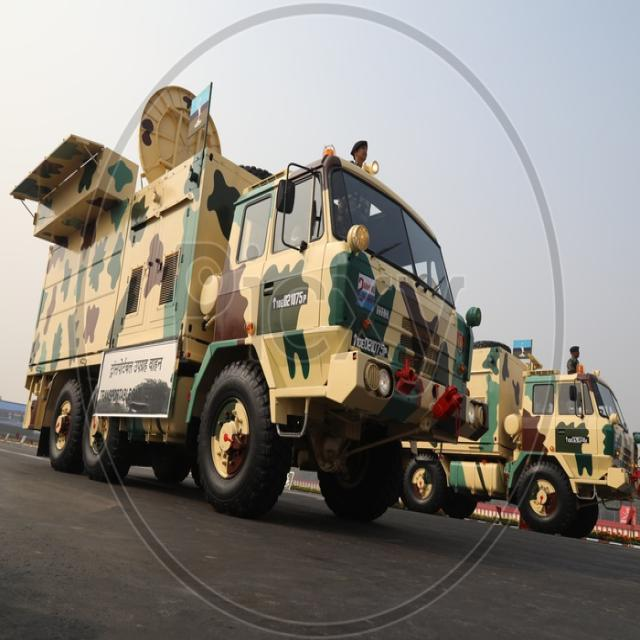military-plate: (352, 332, 390, 360), (271, 290, 309, 310), (564, 435, 589, 444)
